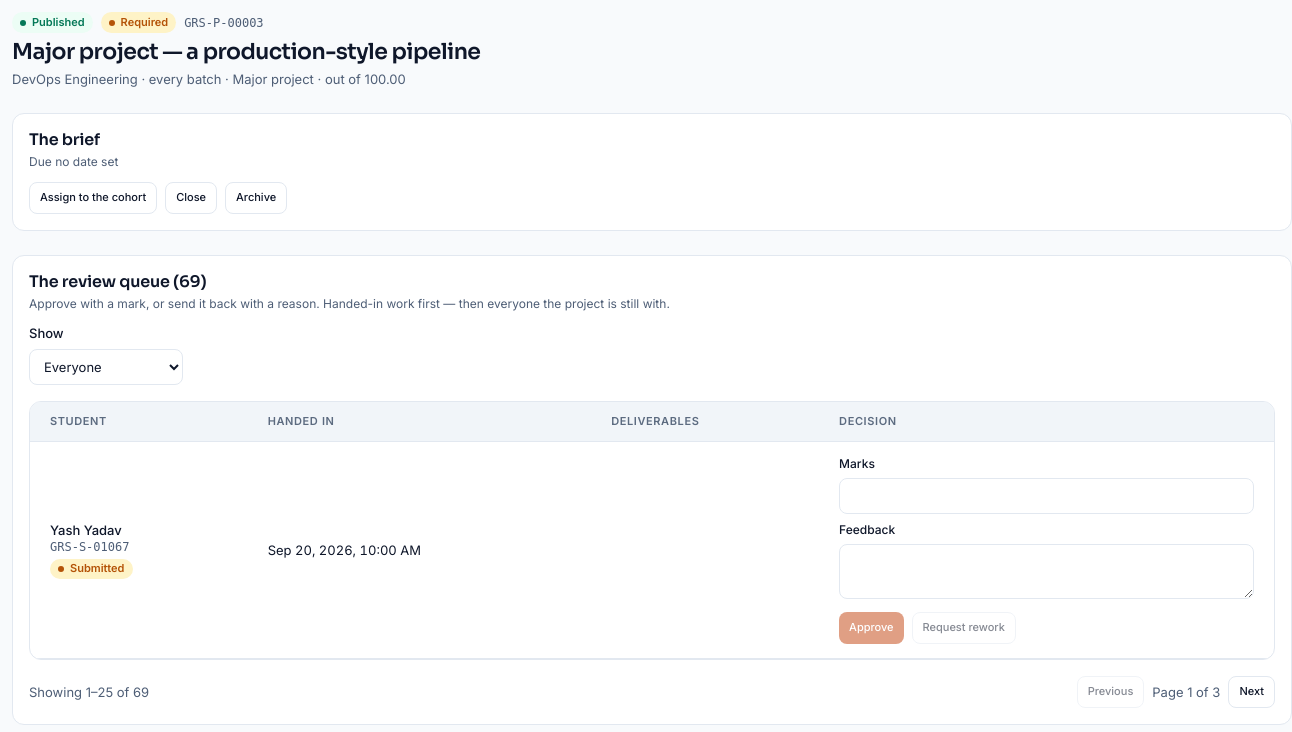
Test case: the project review queue › asks for the next page when the reviewer pages forward
Expected: the text "Yash Yadav" is shown, [50,522,122,538]
Click the button "Next".
click(1252, 692)  # box [1228,676,1275,708]
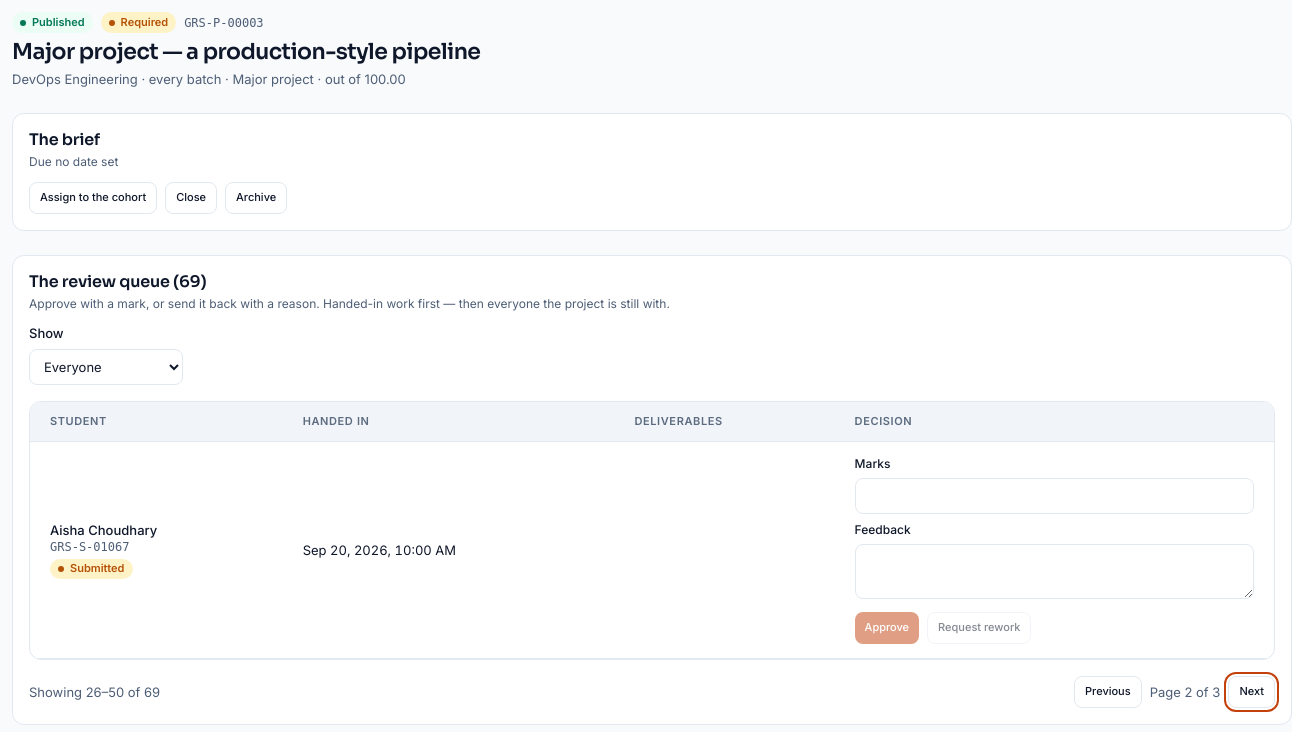
Result: the text "Aisha Choudhary" is shown at [50,522,157,538]
